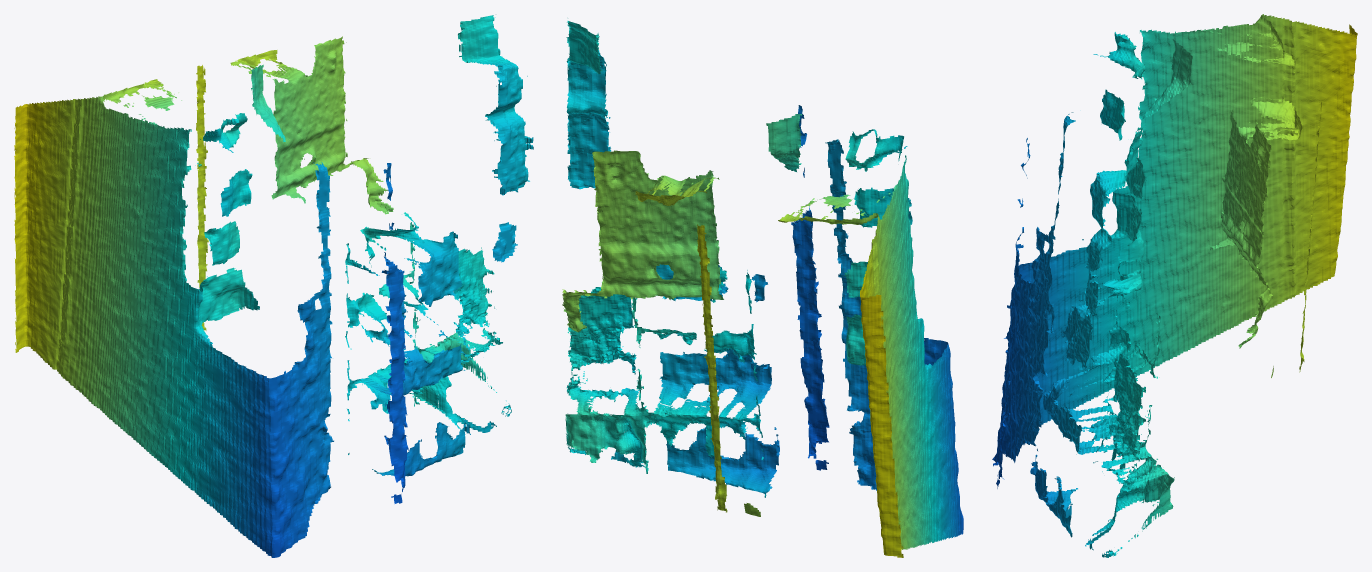
The model's file is sensor_fusion_model_raw.obj.
3 views of the same model, side by side, from view 1: azimuth 30°, elevation 25°; view 2: azimuth 150°, elevation 25°; view 3: azimuth 270°, elevation 25° (orthographic). The views are drawn at different scales.
Bounding box in the file's own units: 1.68 × 1.69 × 1.23.
